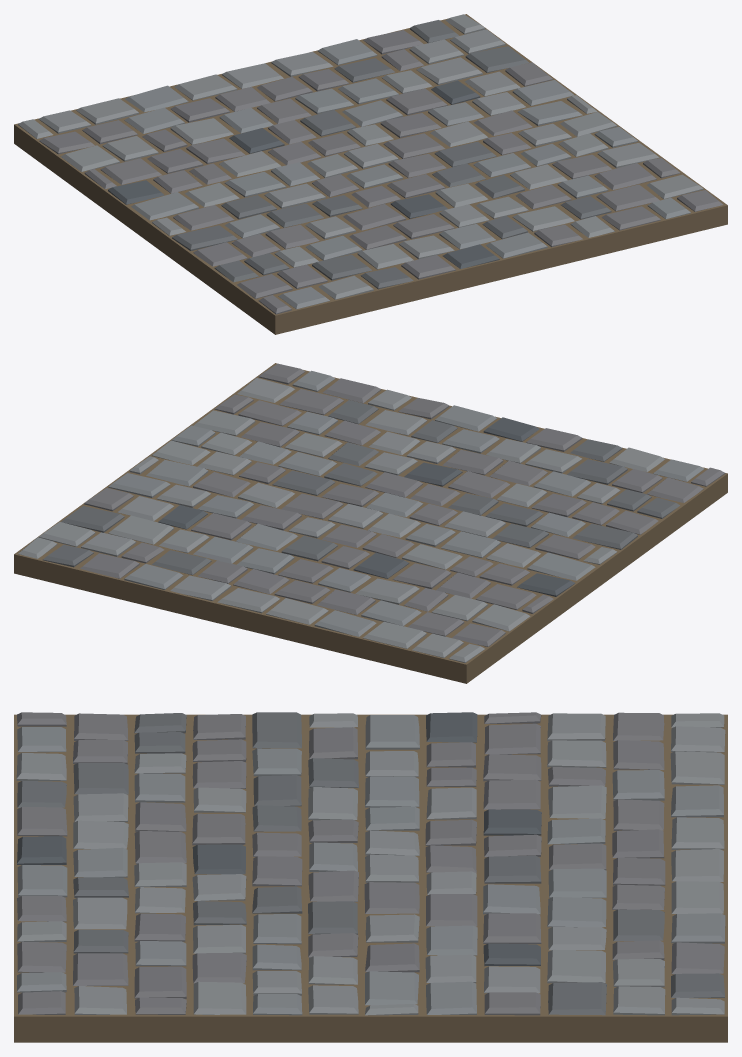
Rendered from SM_LPD_Floor_PavingCobble_01.fbx.
3 renders of one model, top to bottom at view 1: azimuth 30°, elevation 25°; view 2: azimuth 150°, elevation 25°; view 3: azimuth 270°, elevation 25°, orthographic. The views are drawn at different scales.
Parts seen in each view (by area): view 1: SM_LPD_Floor_PavingCobble_01; view 2: SM_LPD_Floor_PavingCobble_01; view 3: SM_LPD_Floor_PavingCobble_01.
Boxes of the visible parts, x1,y1,x2,y2 form: SM_LPD_Floor_PavingCobble_01: (14,14,727,334); SM_LPD_Floor_PavingCobble_01: (14,363,727,683); SM_LPD_Floor_PavingCobble_01: (14,712,727,1042).
Size of the model in its own units: 4 by 0.2 by 4.
